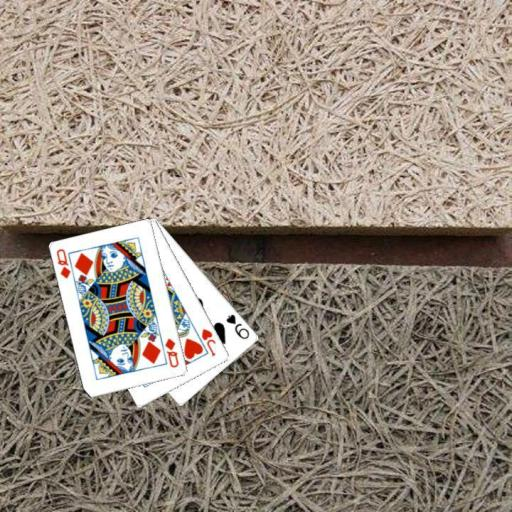9S: (223, 311, 251, 341)
JH: (199, 326, 218, 358)
QD: (162, 335, 181, 369), (54, 246, 73, 280)
